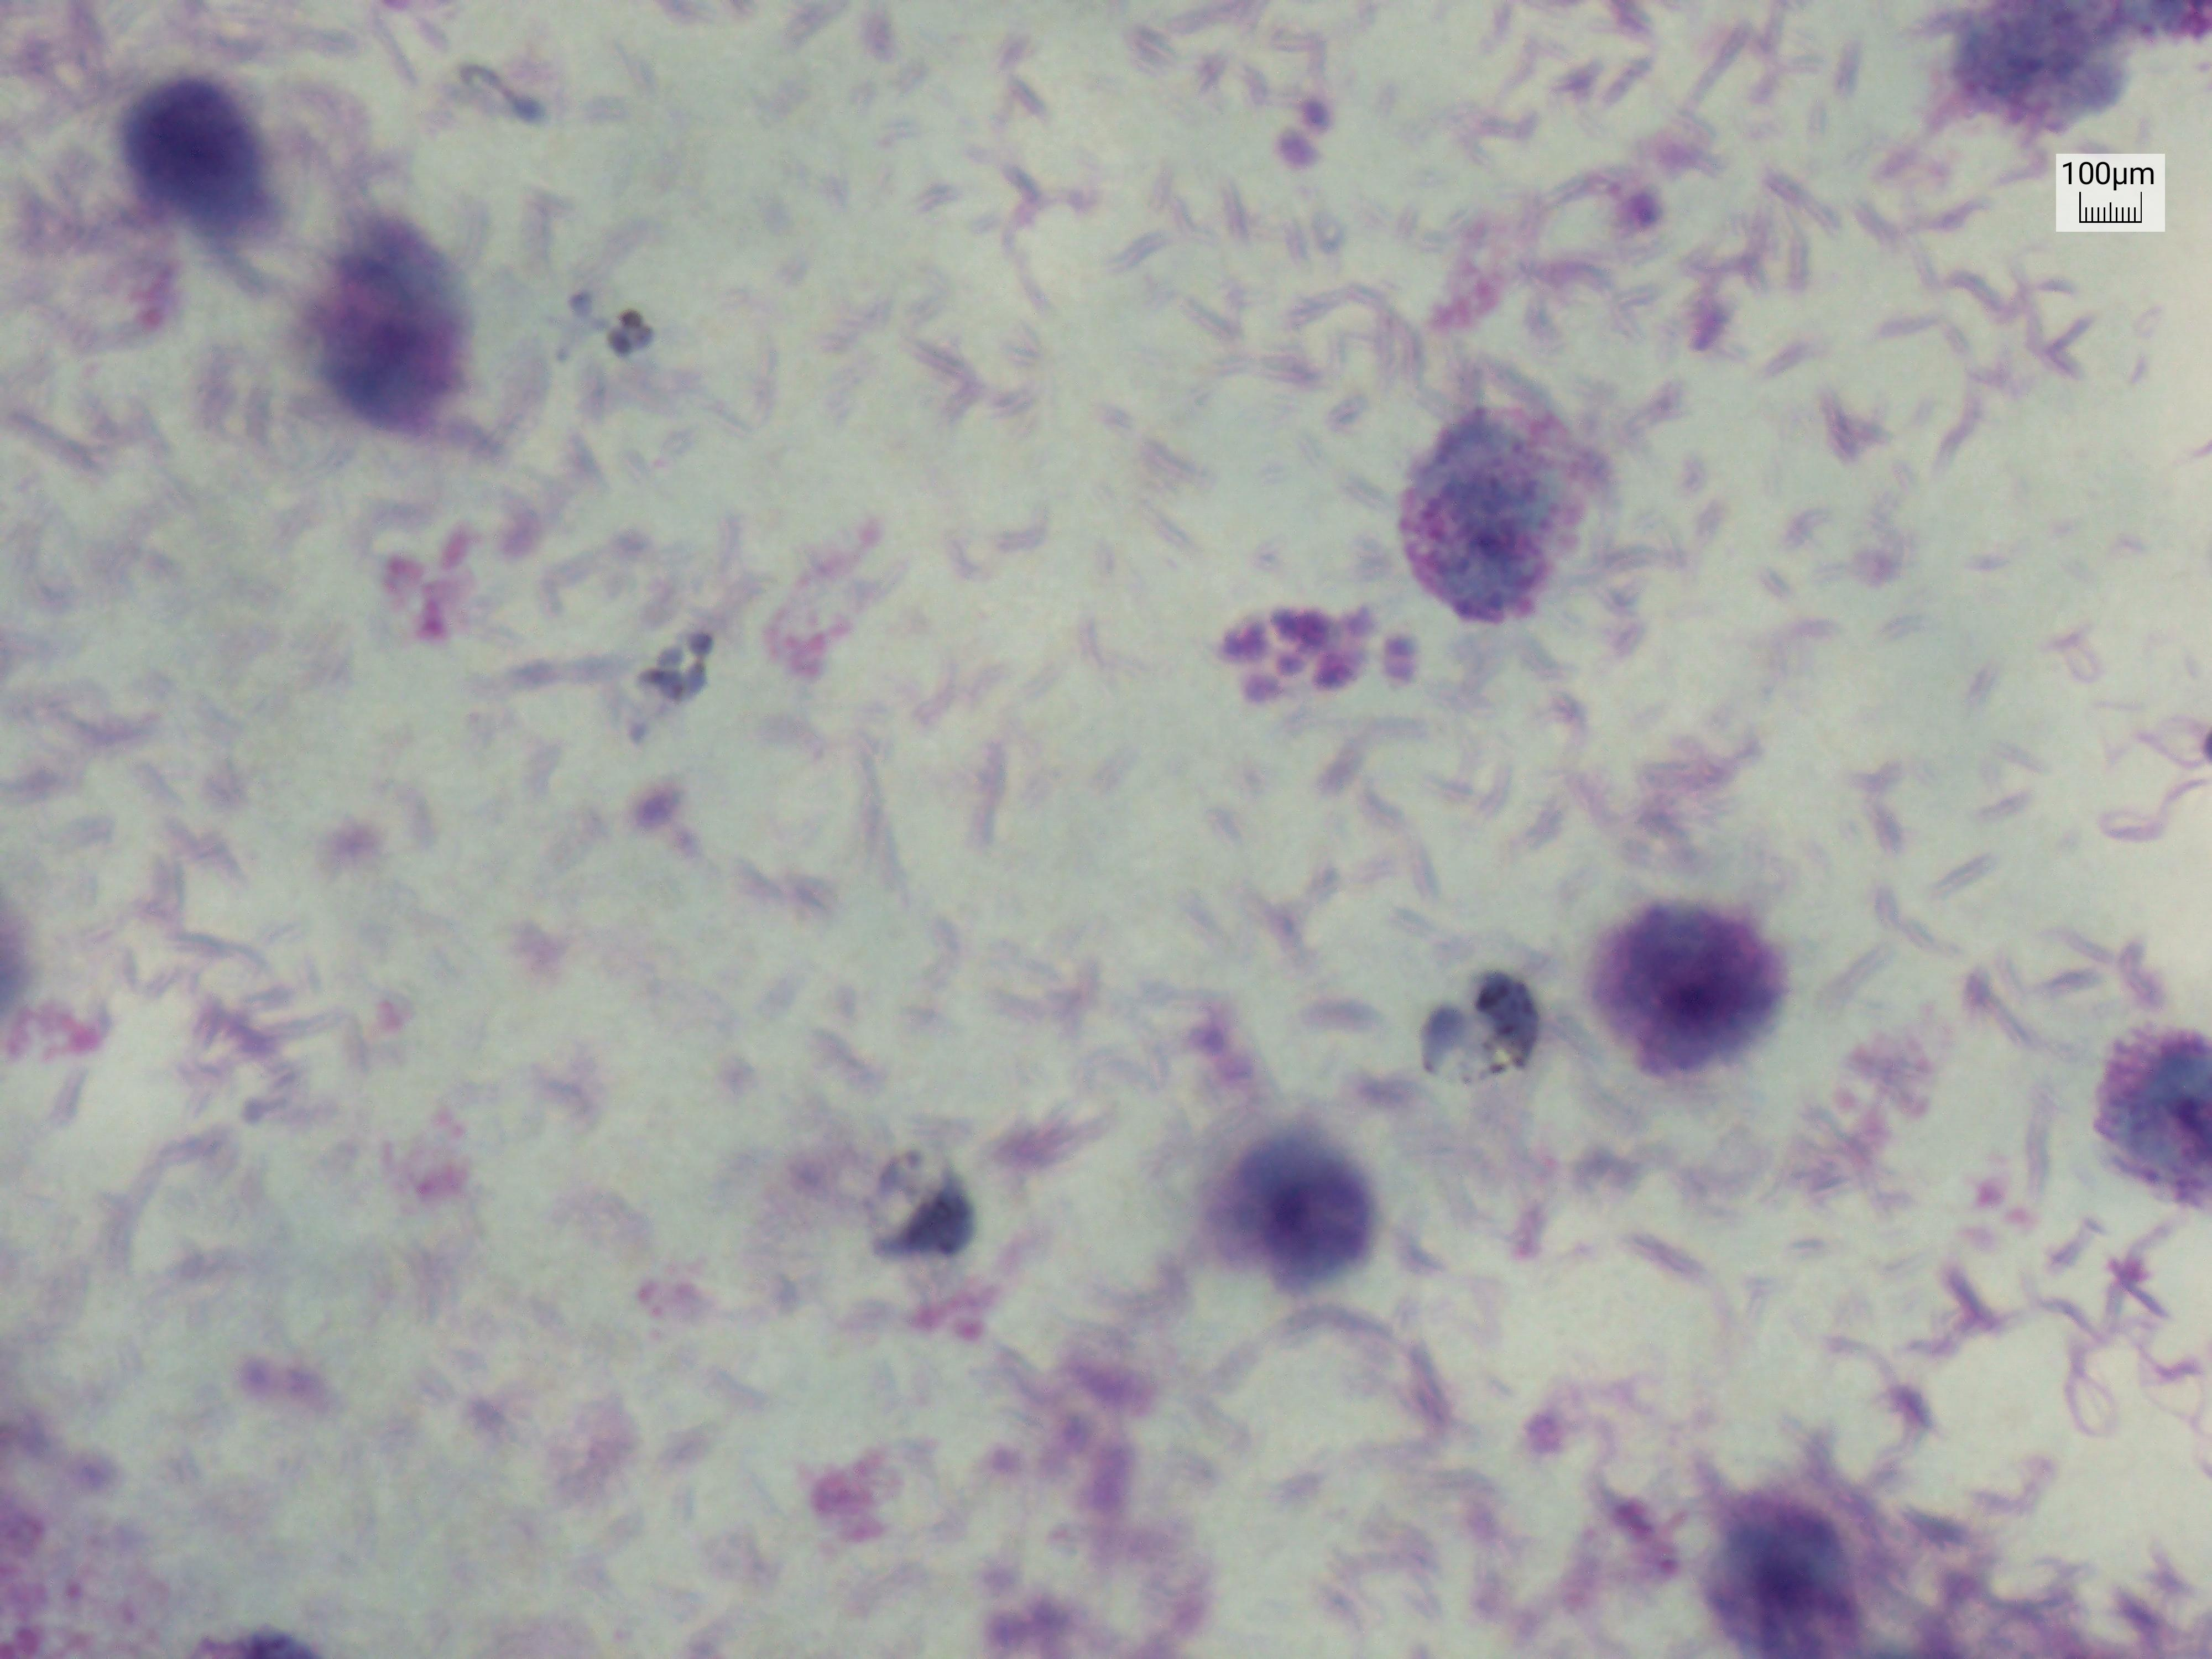p.vivax: (833, 1129, 1014, 1323), (1426, 946, 1541, 1112), (554, 263, 671, 390), (631, 606, 728, 748), (1571, 145, 1677, 256), (428, 51, 564, 136), (1670, 267, 1763, 362)
